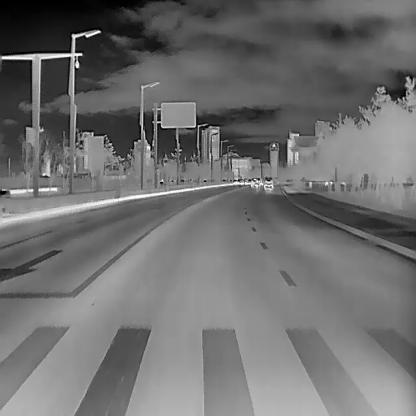car: (262, 177, 273, 190), (250, 177, 258, 187)
